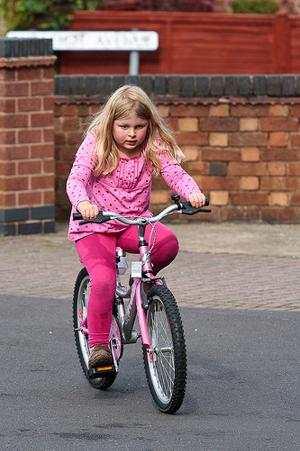person: (65, 83, 207, 368)
